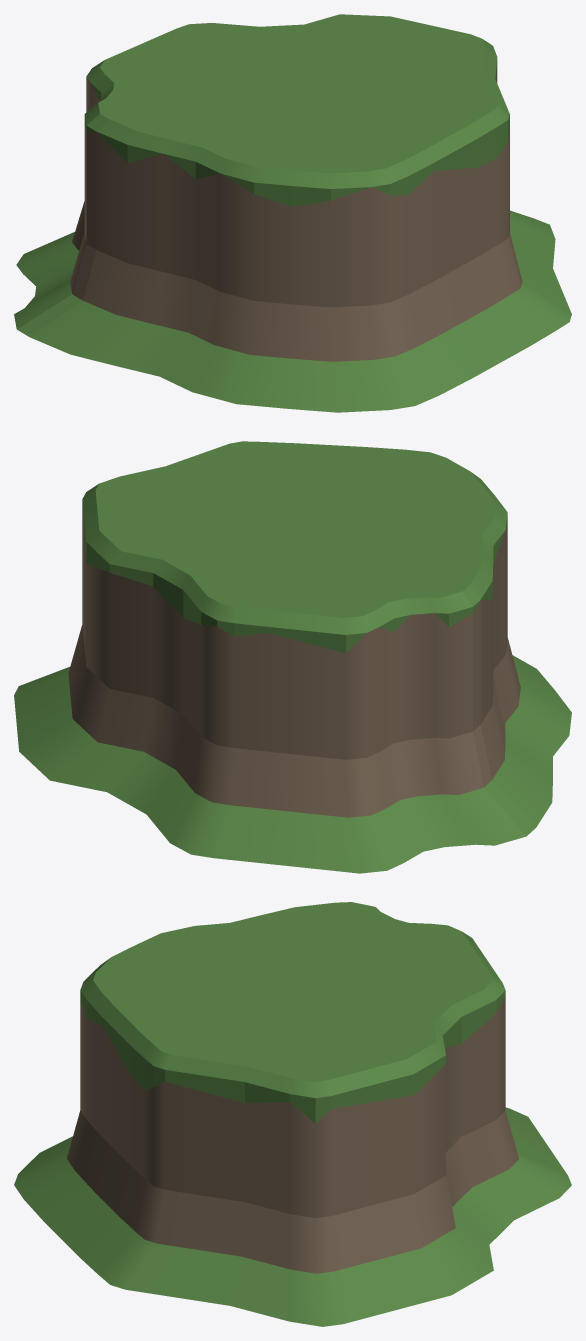
File: SM_Env_Cliff.fbx
The picture shows the model from 3 angles, top to bottom: view 1: azimuth 30°, elevation 25°; view 2: azimuth 150°, elevation 25°; view 3: azimuth 270°, elevation 25°; orthographic projection. The views are drawn at different scales.
Visible parts, largest first — view 1: Model; view 2: Model; view 3: Model.
Part boxes in pixels (bbox=[...]): Model: bbox=[14, 14, 571, 412]; Model: bbox=[14, 441, 571, 873]; Model: bbox=[14, 902, 571, 1326].
Bounding box in the file's own units: 4.57 × 1.78 × 4.3.
